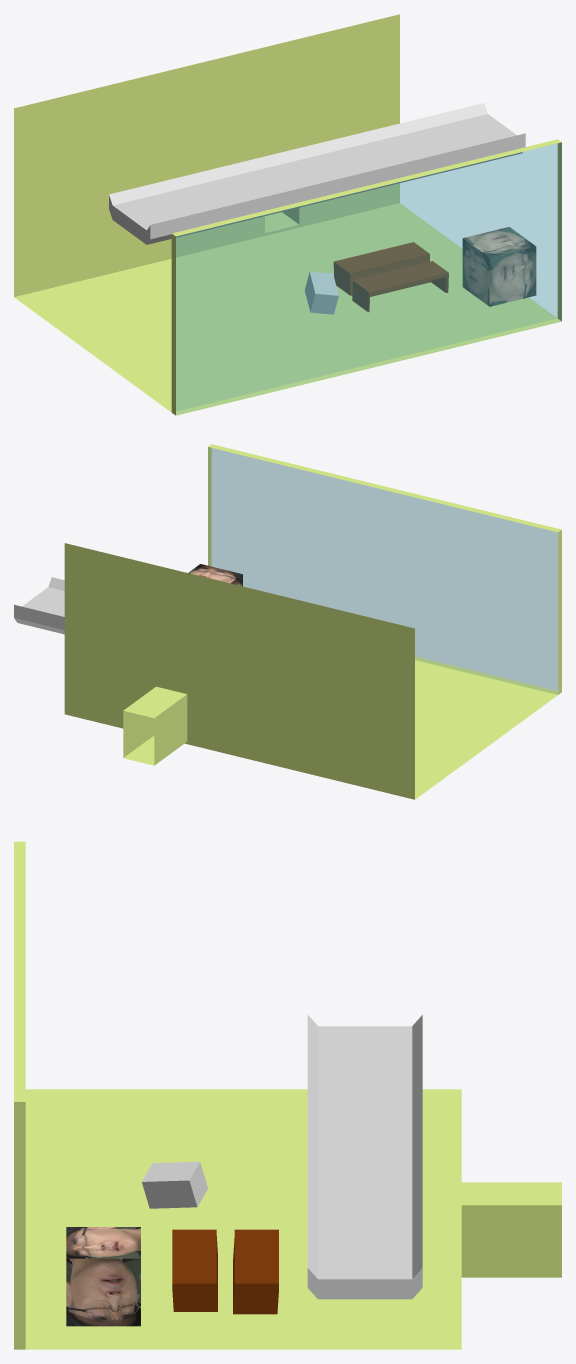
The picture shows the model from 3 angles, top to bottom: view 1: azimuth 30°, elevation 25°; view 2: azimuth 150°, elevation 25°; view 3: azimuth 270°, elevation 25°; orthographic projection. The views are drawn at different scales.
Parts seen in each view (by area): view 1: Plane.001, Desk, Cube.001, Desk.001, Desk.002, Cube; view 2: Plane.001, Desk, Cube.001; view 3: Plane.001, Desk, Cube.001, Desk.001, Desk.002, Cube.
Boxes of the visible parts, x1,y1,x2,y2 form: Plane.001: [14, 14, 561, 415]; Desk: [109, 103, 525, 244]; Cube.001: [462, 227, 536, 306]; Desk.001: [333, 242, 429, 295]; Desk.002: [352, 261, 448, 311]; Cube: [304, 271, 338, 314]; Plane.001: [64, 444, 561, 799]; Desk: [14, 577, 64, 634]; Cube.001: [188, 564, 242, 586]; Plane.001: [14, 841, 561, 1349]; Desk: [307, 1015, 422, 1299]; Cube.001: [66, 1227, 140, 1326]; Desk.001: [233, 1229, 278, 1314]; Desk.002: [172, 1229, 217, 1311]; Cube: [142, 1161, 207, 1208].
Size of the model in its own units: 1950 by 779 by 1468.
